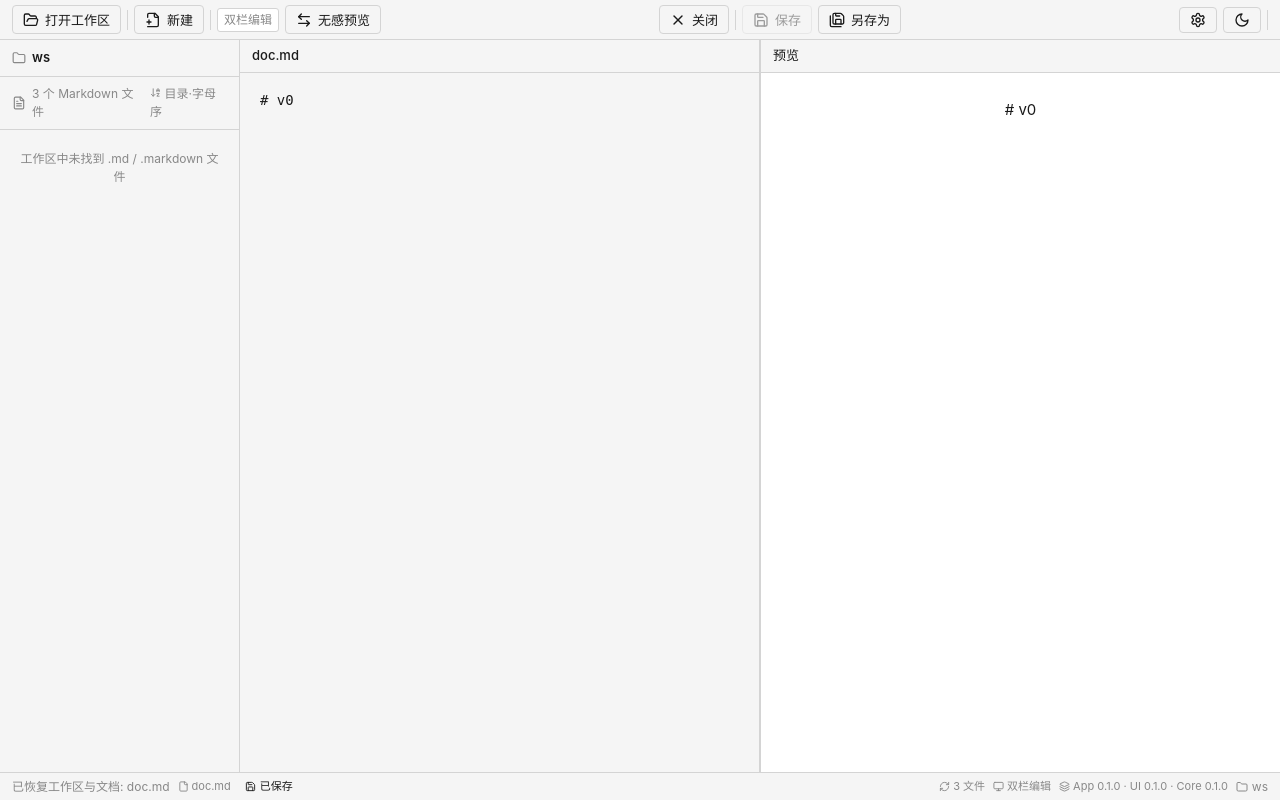
Undo/redo + keyboard shortcuts (P1) › Cmd+Z undoes content change
//  Type v1
Replace the text in the text box with class "content-editor-textarea" with "# v1": (500, 422) 240,72 -> 759,772
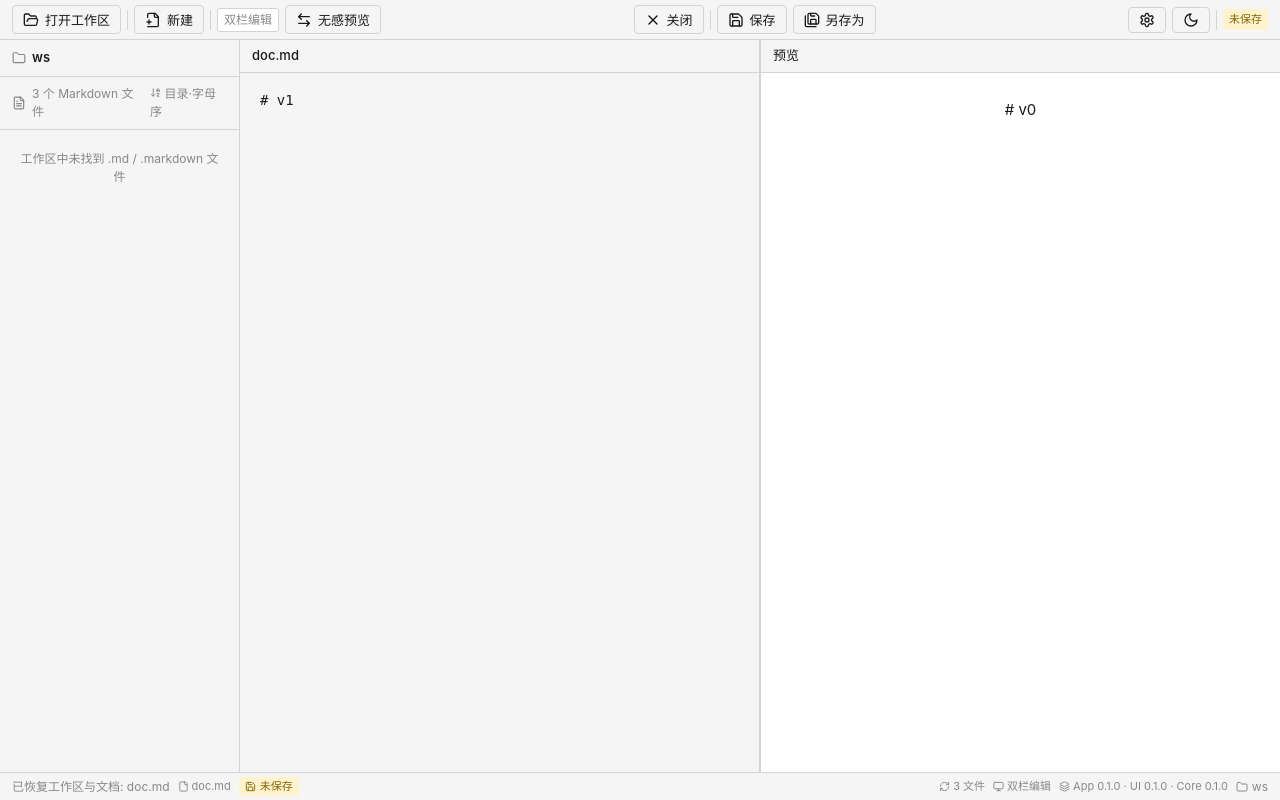
// Press Cmd+Z to undo
Press z
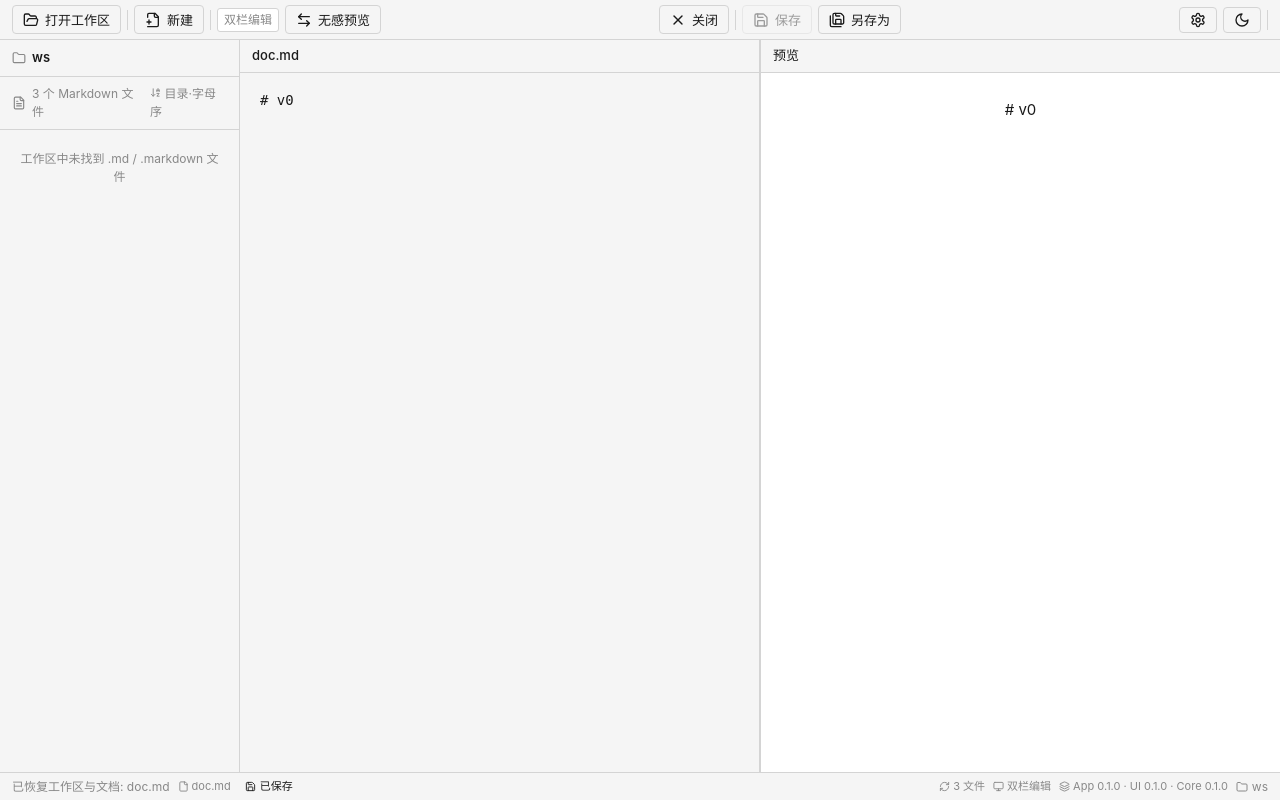
Check: the text box with class "content-editor-textarea" holds "# v0", box 240,72 -> 759,772
